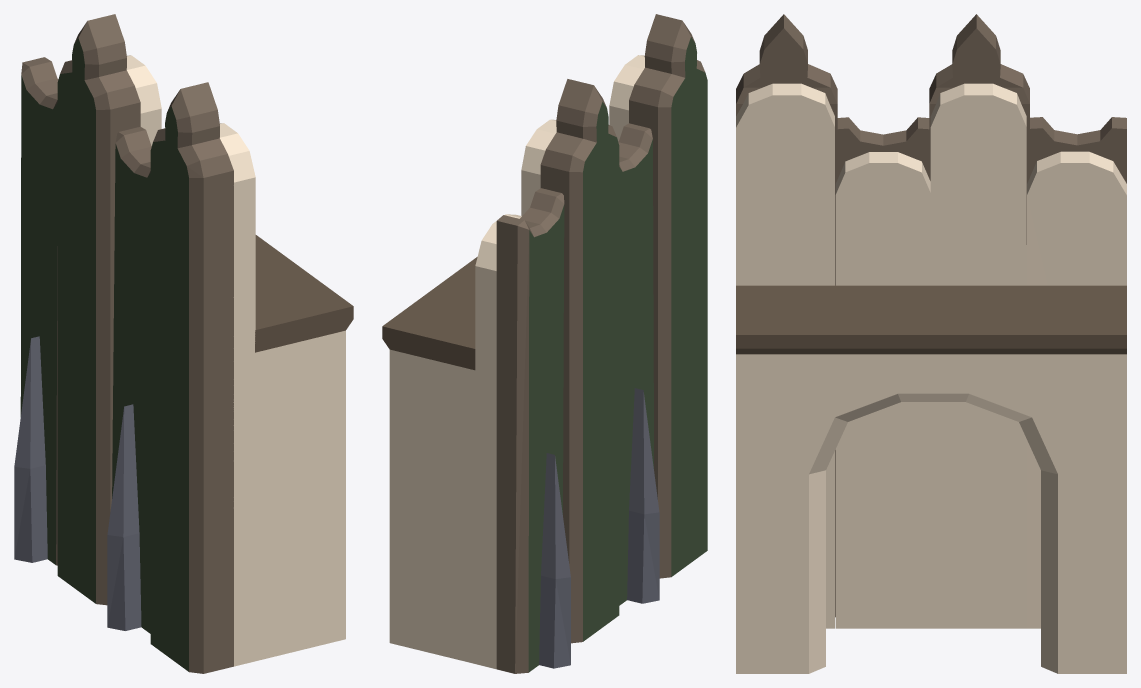
The model's file is wall_1_full.fbx.
The picture shows the model from 3 angles, left to right: view 1: azimuth 30°, elevation 25°; view 2: azimuth 150°, elevation 25°; view 3: azimuth 270°, elevation 25°; orthographic projection. The views are drawn at different scales.
Visible parts, largest first — view 1: WALL_1_part_01, wall_1_part_02; view 2: WALL_1_part_01, wall_1_part_02; view 3: WALL_1_part_01, wall_1_part_02.
Boxes of the visible parts, <box> form: WALL_1_part_01: <box>14,14,255,673</box>; wall_1_part_02: <box>255,235,353,661</box>; WALL_1_part_01: <box>475,14,707,673</box>; wall_1_part_02: <box>382,257,477,663</box>; WALL_1_part_01: <box>736,14,1126,628</box>; wall_1_part_02: <box>736,285,1126,673</box>.
Size of the model in its own units: 159 by 495 by 298.
